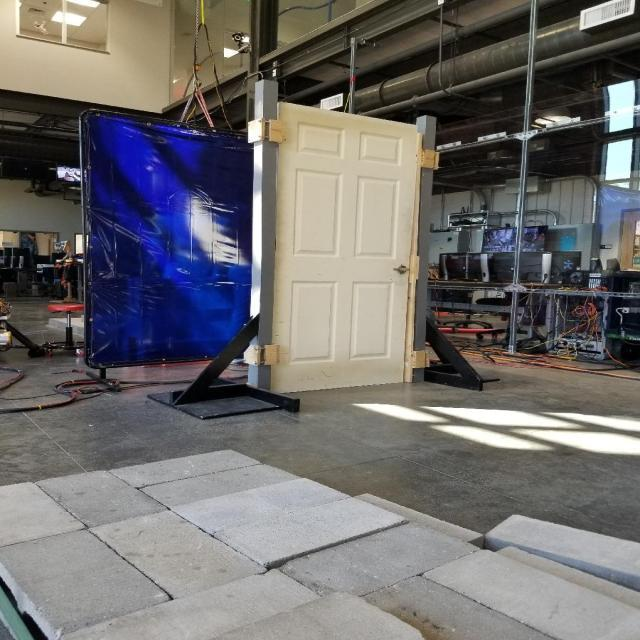door: (268, 99, 420, 398), (388, 264, 411, 274)
